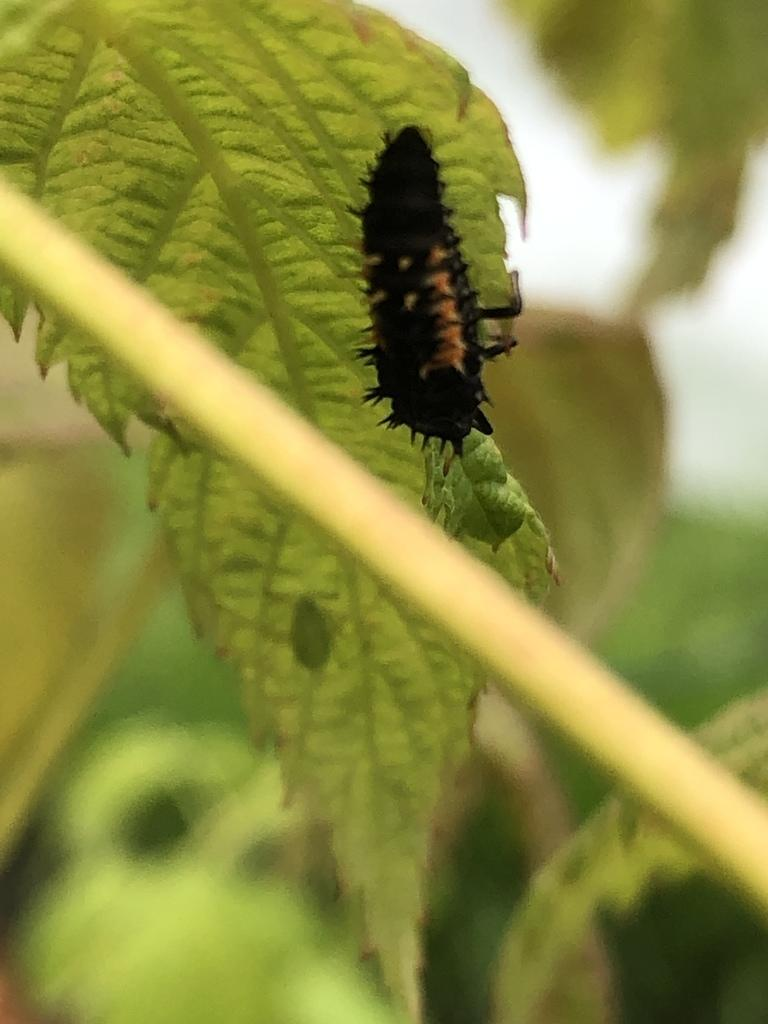ladybug: (349, 121, 531, 464)
